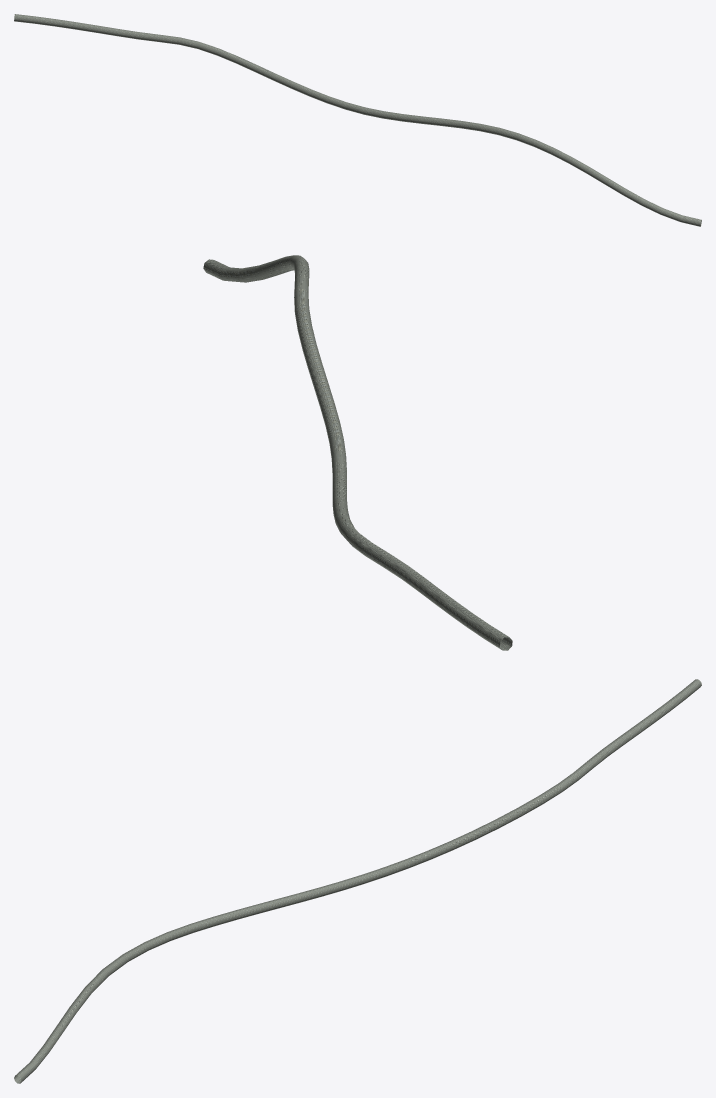
File: microtubule6.fbx
3 renders of one model, top to bottom at view 1: azimuth 30°, elevation 25°; view 2: azimuth 150°, elevation 25°; view 3: azimuth 270°, elevation 25°, orthographic. The views are drawn at different scales.
Visible parts, largest first — view 1: microtubule6; view 2: microtubule6; view 3: microtubule6.
Boxes of the visible parts, x1,y1,x2,y2 form: microtubule6: (14, 14, 701, 226); microtubule6: (203, 255, 512, 650); microtubule6: (14, 679, 701, 1083).
Size of the model in its own units: 9618 by 2554 by 10784.
1 material, 1 textured.
